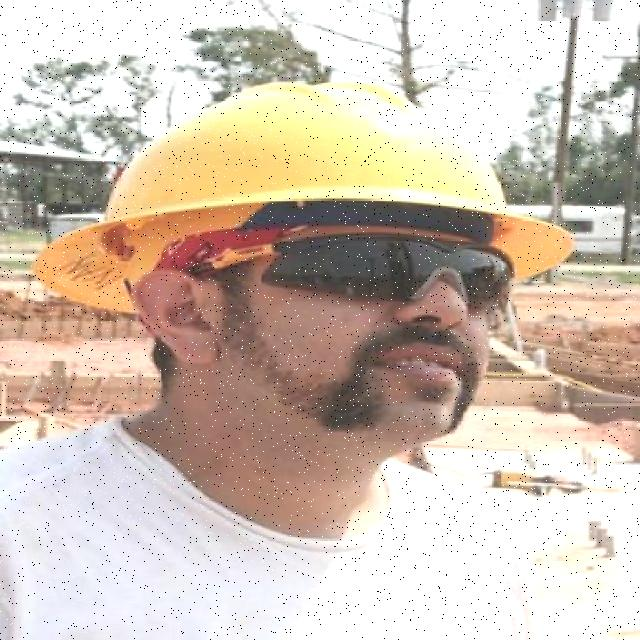Helmet: (34, 72, 580, 235)
